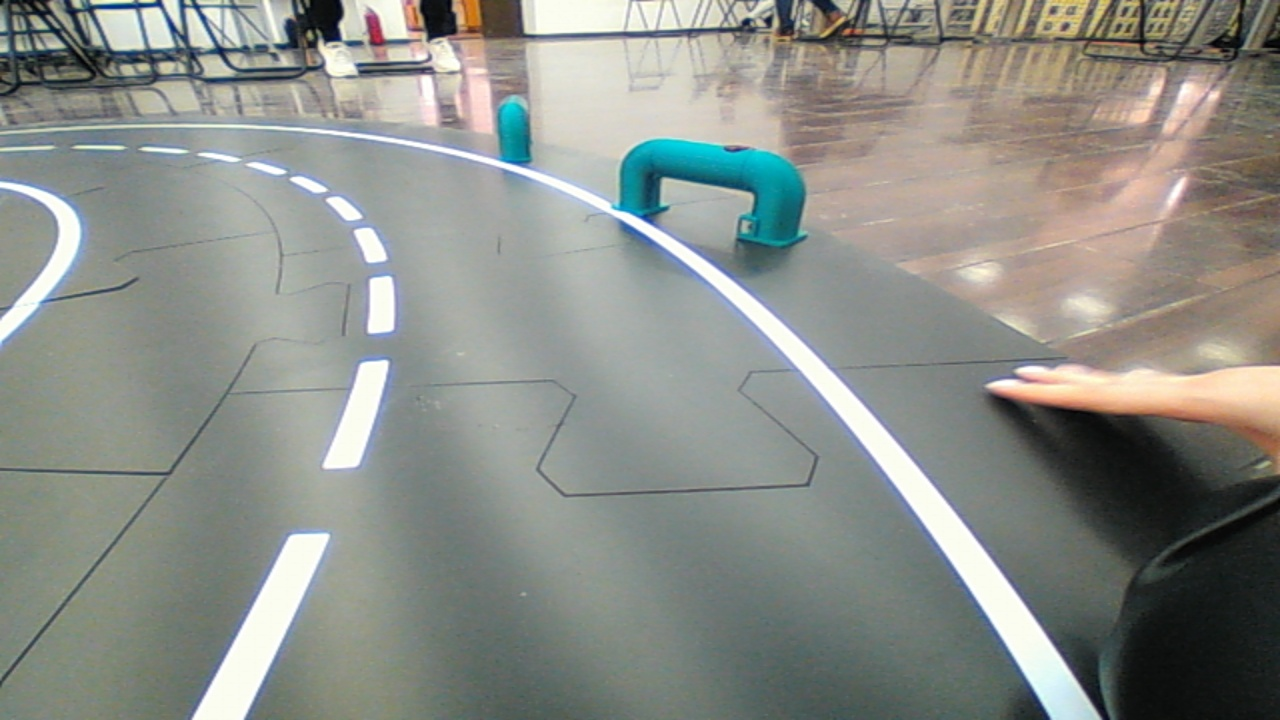Pedestrian crossing: (596, 115, 816, 253)
